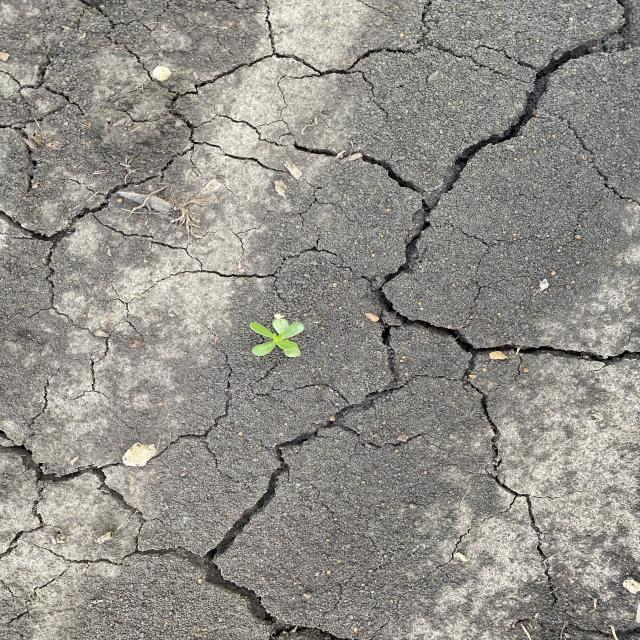Purslane: (248, 315, 309, 359)
